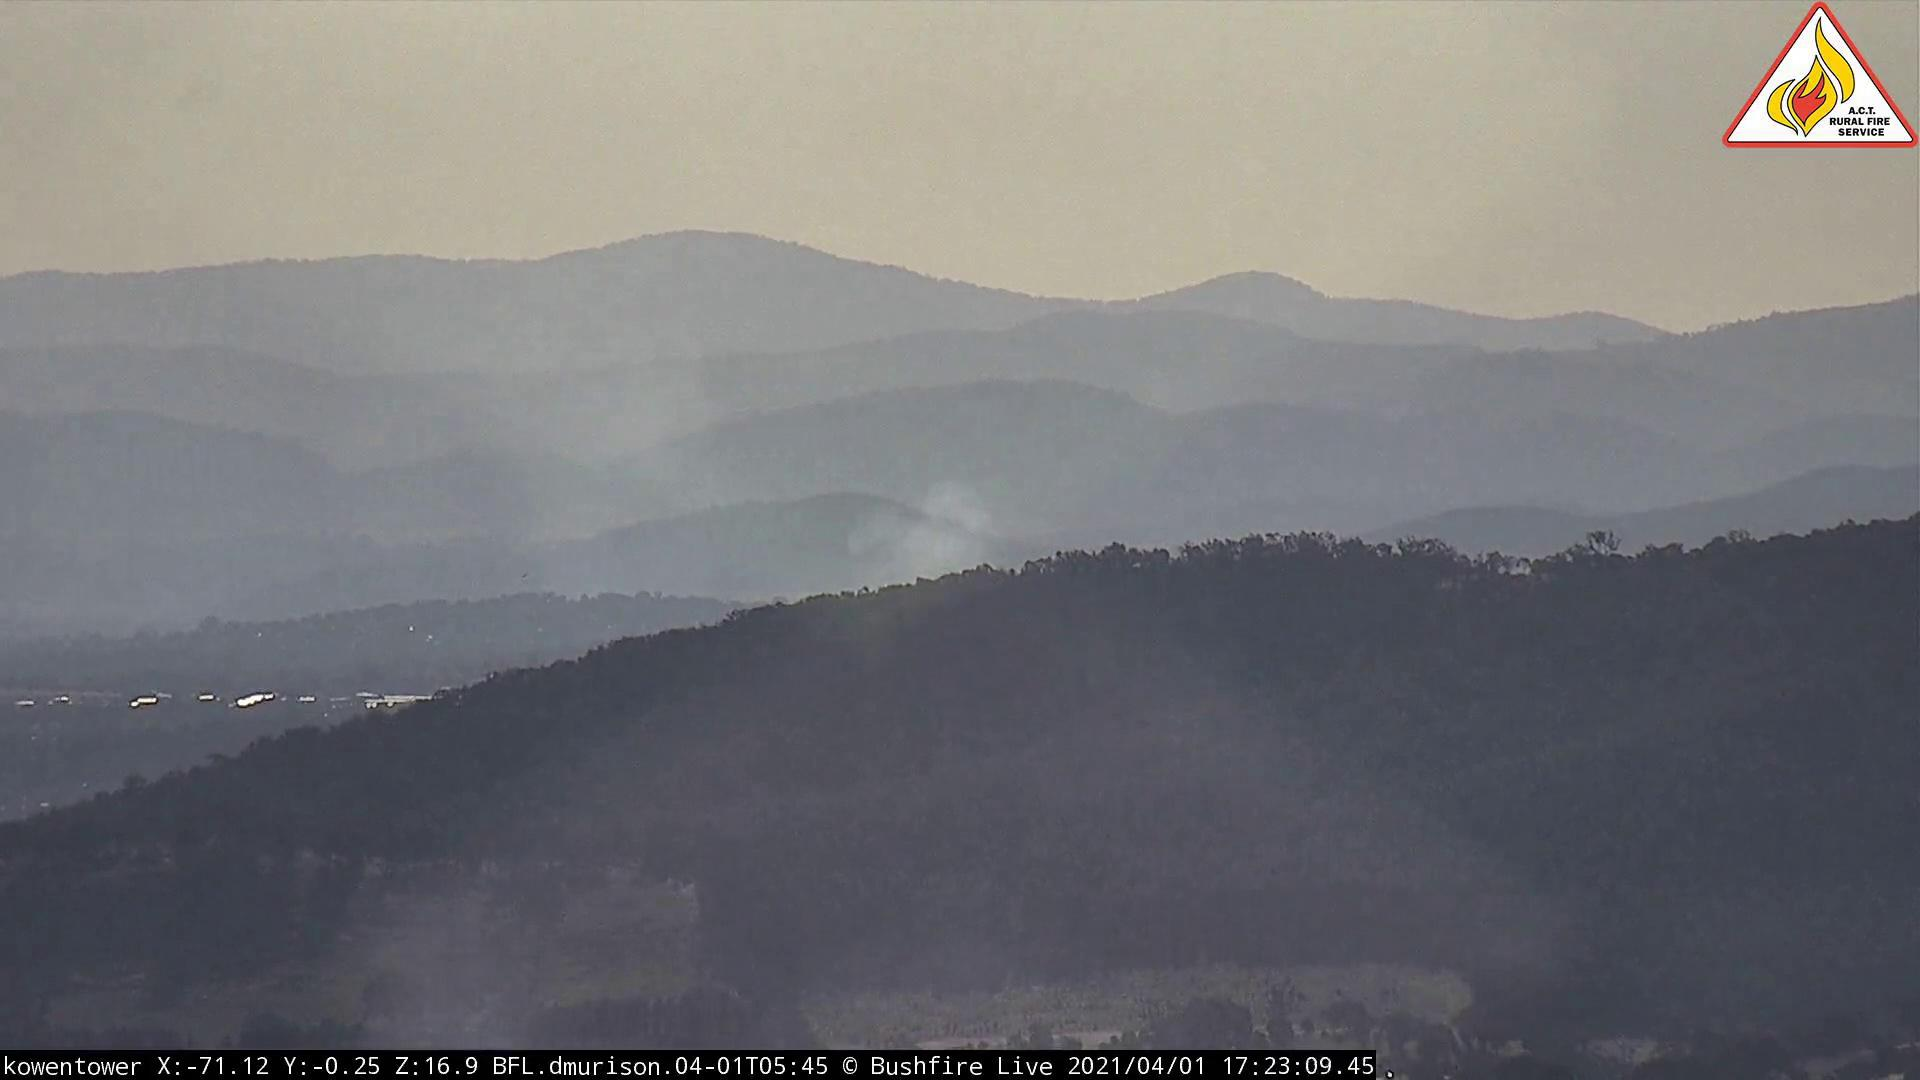Smoke: (459, 268, 1026, 671)
